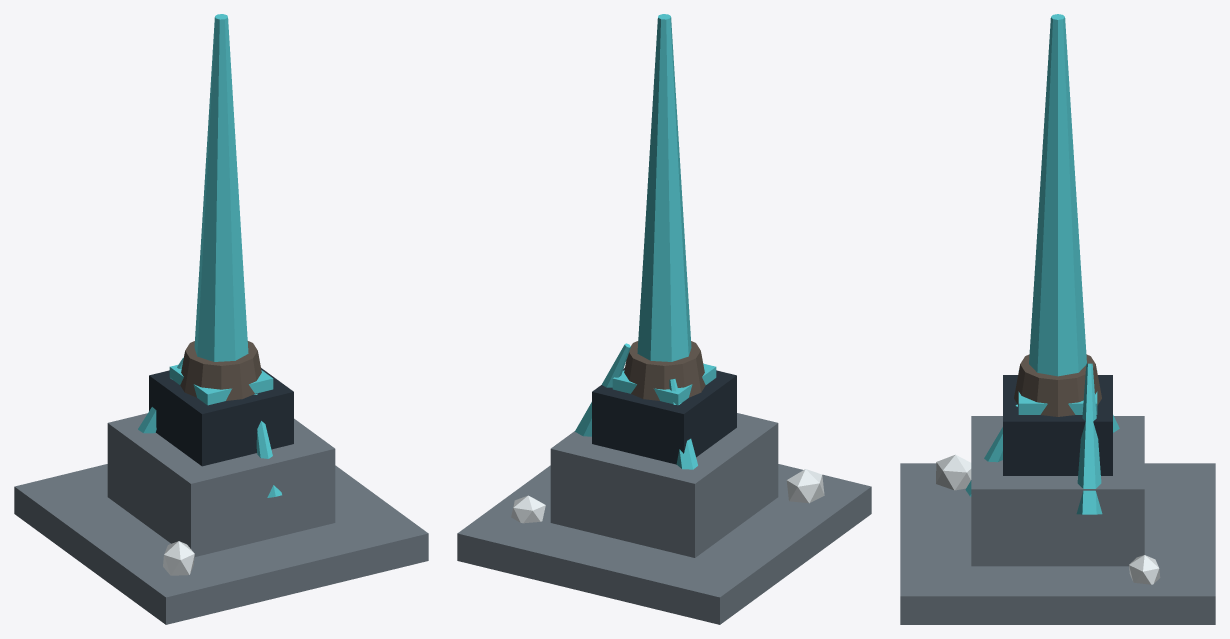
Rendered from crystal_lance.glb.
3 views of the same model, side by side, from view 1: azimuth 30°, elevation 25°; view 2: azimuth 150°, elevation 25°; view 3: azimuth 270°, elevation 25° (orthographic). The views are drawn at different scales.
Parts seen in each view (by area): view 1: crystal_lance; view 2: crystal_lance; view 3: crystal_lance.
Boxes of the visible parts, <box> form: crystal_lance: <box>14,14,428,624</box>; crystal_lance: <box>457,14,871,624</box>; crystal_lance: <box>900,14,1215,624</box>.
Bounding box in the file's own units: 1 × 1.89 × 1.
Materials: 1 (1 with a texture image).
